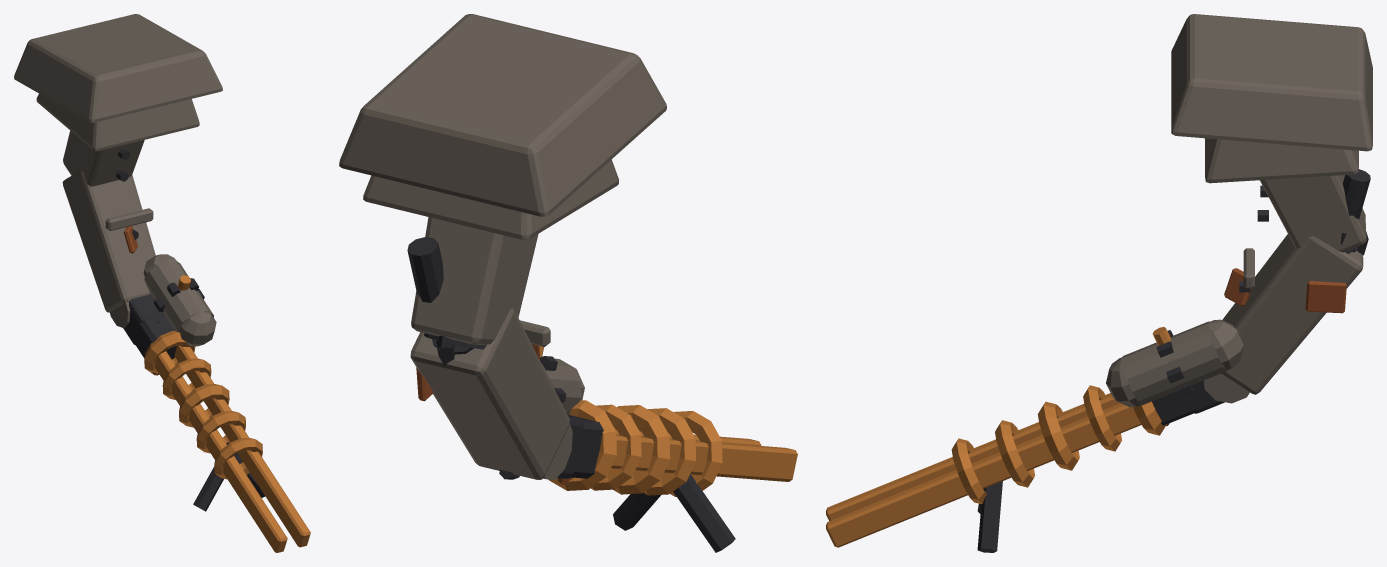
Rendered from ar_lance.glb.
The picture shows the model from 3 angles, left to right: view 1: azimuth 30°, elevation 25°; view 2: azimuth 150°, elevation 25°; view 3: azimuth 270°, elevation 25°; orthographic projection. The views are drawn at different scales.
Visible parts, largest first — view 1: ar_lance; view 2: ar_lance; view 3: ar_lance.
Boxes of the visible parts, box(x1,y1,x2,y2) form: ar_lance: box(14, 14, 310, 552); ar_lance: box(339, 14, 797, 552); ar_lance: box(826, 14, 1372, 552).
Size of the model in its own units: 0.1955 by 0.5382 by 0.5435.
